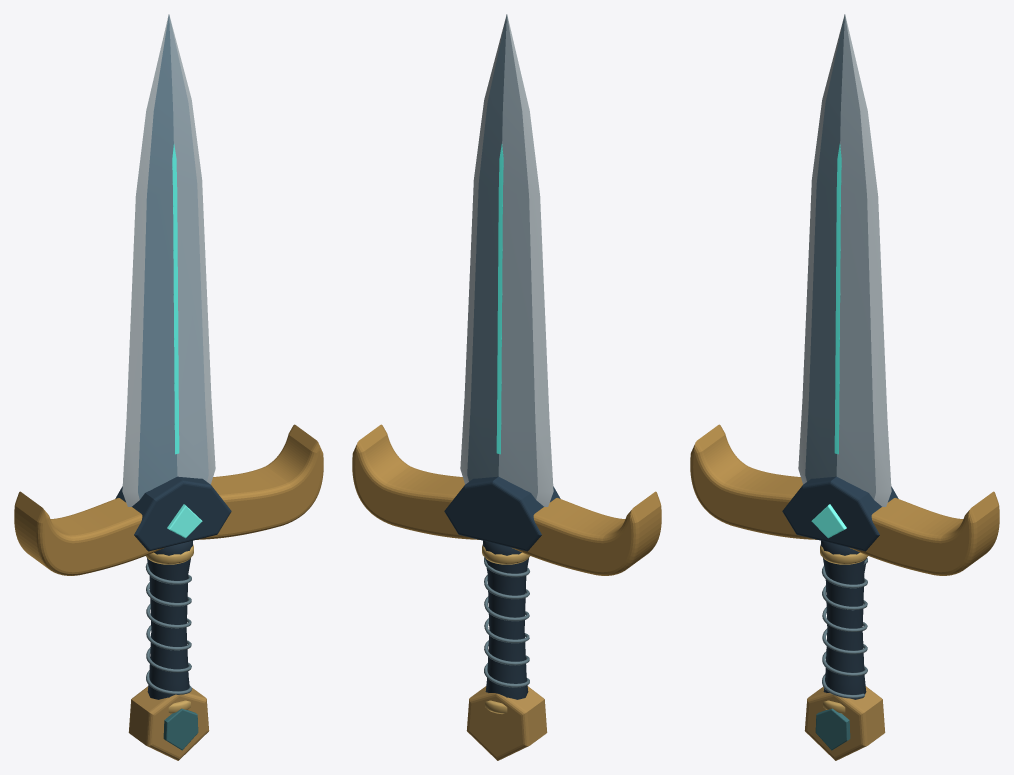
Rendered from asterion.glb.
The picture shows the model from 3 angles, left to right: view 1: azimuth 30°, elevation 25°; view 2: azimuth 150°, elevation 25°; view 3: azimuth 330°, elevation 25°; orthographic projection.
Parts seen in each view (by area): view 1: blade, swept-guard, wrapped-grip, guard-collar, pommel-frame, rune-channel-1, leather-binding, pommel-inset, guard-jewel; view 2: blade, swept-guard, guard-collar, wrapped-grip, pommel-frame, leather-binding, rune-channel--1; view 3: blade, swept-guard, wrapped-grip, guard-collar, pommel-frame, leather-binding, rune-channel-1, pommel-inset, guard-jewel.
Boxes of the visible parts, x1,y1,x2,y2 form: blade: (122, 14, 215, 506); swept-guard: (14, 424, 323, 575); wrapped-grip: (147, 540, 192, 699); guard-collar: (115, 476, 231, 551); pommel-frame: (128, 686, 209, 760); rune-channel-1: (172, 144, 179, 454); leather-binding: (145, 562, 192, 694); pommel-inset: (163, 708, 198, 750); guard-jewel: (167, 504, 202, 538); blade: (460, 14, 553, 506); swept-guard: (352, 424, 661, 575); guard-collar: (444, 476, 560, 551); wrapped-grip: (483, 540, 528, 699); pommel-frame: (466, 686, 547, 760); leather-binding: (484, 557, 529, 687); rune-channel--1: (496, 144, 503, 454); blade: (798, 14, 891, 506); swept-guard: (690, 424, 999, 575); wrapped-grip: (821, 540, 866, 699); guard-collar: (782, 476, 898, 551); pommel-frame: (804, 686, 885, 760); leather-binding: (822, 558, 867, 698); rune-channel-1: (834, 144, 841, 454); pommel-inset: (815, 708, 850, 750); guard-jewel: (811, 504, 846, 538).
Size of the model in its own units: 0.5531 by 1.37 by 0.1068.
